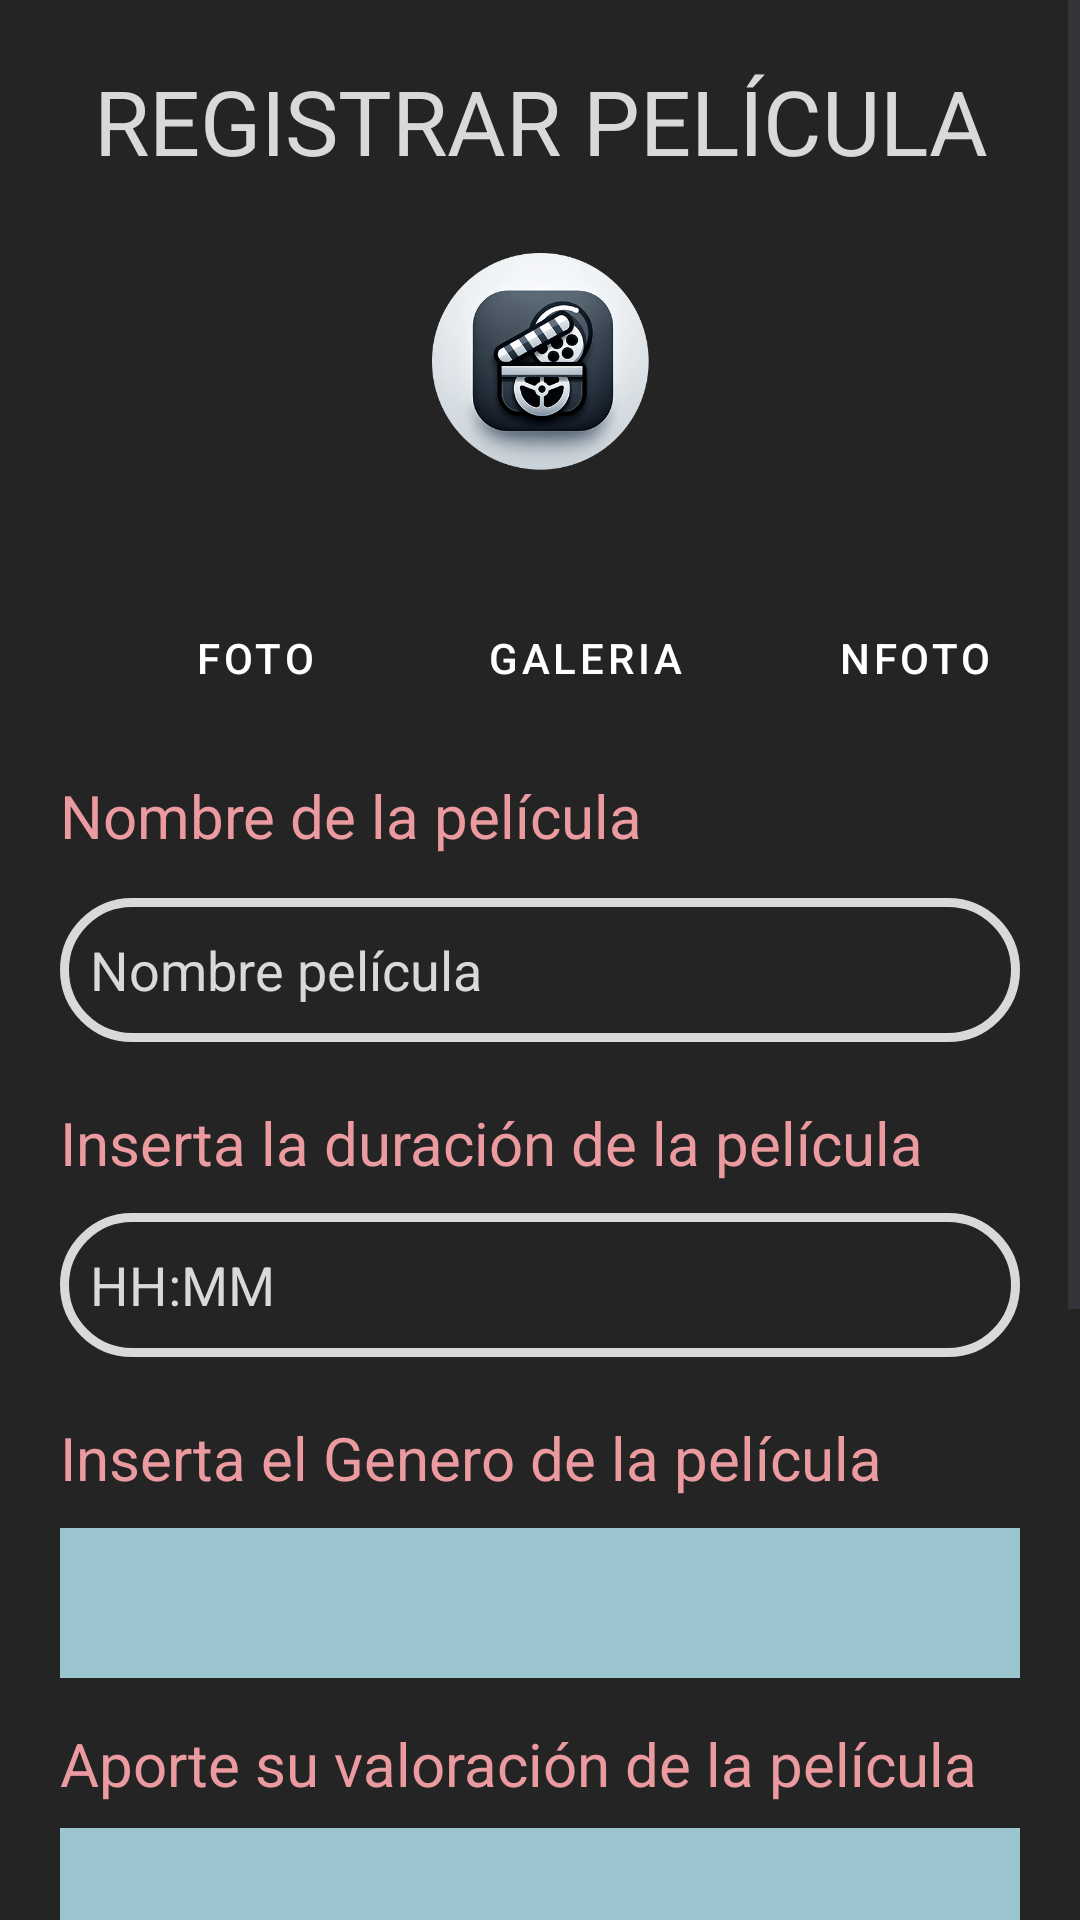

Where to tap for icons on this 1080w x 1920h app screen, as (x,y):
Caratula de la película: (540,361)
